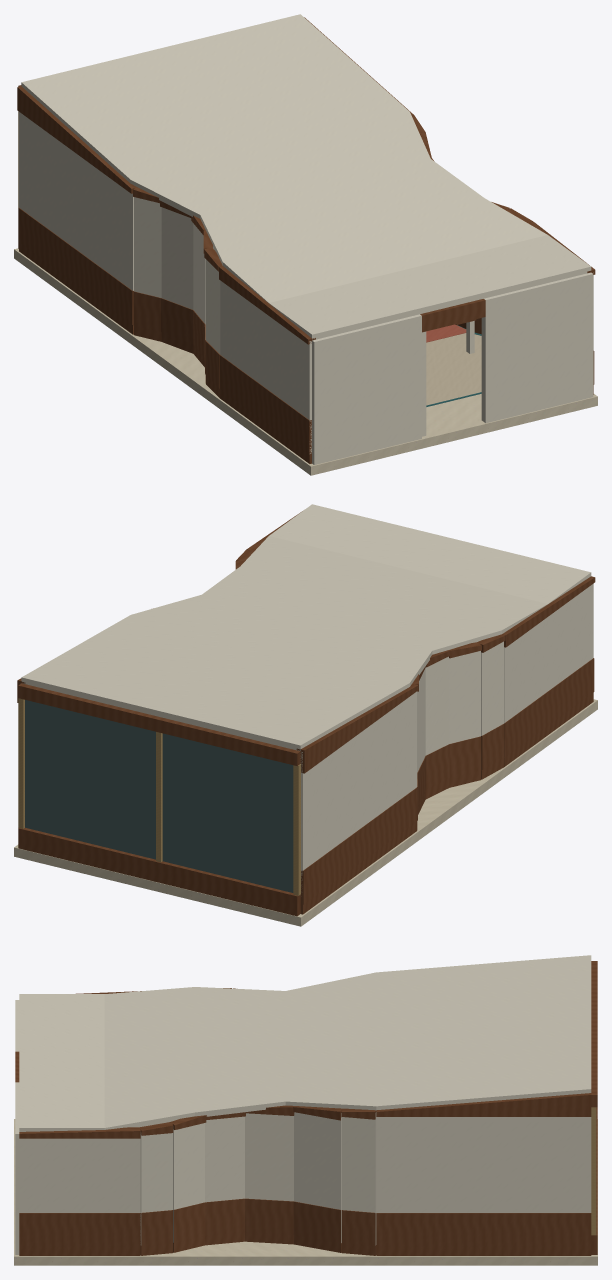
The model's file is shell.glb.
3 views of the same model, one above another, from view 1: azimuth 30°, elevation 25°; view 2: azimuth 150°, elevation 25°; view 3: azimuth 270°, elevation 25° (orthographic).
Parts seen in each view (by area): view 1: NG_Runtime_ivory_enamel, NG_Runtime_warm_walnut, NG_Runtime_warm_stone, NG_Runtime_oatmeal_weave; view 2: NG_Runtime_ivory_enamel, NG_Runtime_NG_SourceDirectionalPrivacy_NOT_RUNTIME_ACCEPTED, NG_Runtime_warm_walnut, NG_Runtime_warm_stone, NG_Runtime_champagne_metal; view 3: NG_Runtime_ivory_enamel, NG_Runtime_warm_walnut, NG_Runtime_warm_stone, NG_Runtime_champagne_metal.
Part boxes in pixels (bbox=[...]): NG_Runtime_ivory_enamel: bbox=[19, 14, 593, 464]; NG_Runtime_warm_walnut: bbox=[17, 17, 595, 463]; NG_Runtime_warm_stone: bbox=[14, 248, 597, 475]; NG_Runtime_oatmeal_weave: bbox=[213, 248, 481, 405]; NG_Runtime_ivory_enamel: bbox=[21, 504, 593, 885]; NG_Runtime_NG_SourceDirectionalPrivacy_NOT_RUNTIME_ACCEPTED: bbox=[25, 700, 293, 892]; NG_Runtime_warm_walnut: bbox=[17, 511, 595, 916]; NG_Runtime_warm_stone: bbox=[14, 699, 597, 926]; NG_Runtime_champagne_metal: bbox=[18, 698, 300, 895]; NG_Runtime_ivory_enamel: bbox=[15, 955, 591, 1254]; NG_Runtime_warm_walnut: bbox=[15, 961, 597, 1255]; NG_Runtime_warm_stone: bbox=[14, 1119, 597, 1265]; NG_Runtime_champagne_metal: bbox=[591, 1107, 596, 1235].
Bounding box in the file's own units: 7.2 × 4.26 × 12.9.
Materials: 9 (7 with a texture image).
